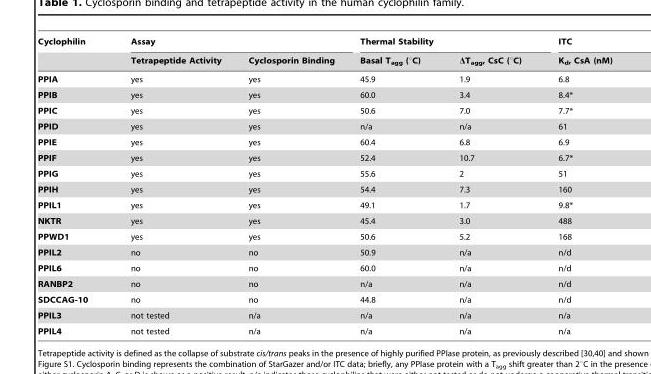table: (37, 36, 611, 335)
table column: (108, 36, 234, 335), (234, 36, 346, 335), (439, 36, 539, 335), (346, 36, 439, 335), (539, 36, 611, 335), (37, 36, 108, 335)
table column header: (37, 36, 611, 69)
table row: (37, 50, 611, 69), (37, 69, 611, 86), (37, 86, 611, 102), (37, 102, 611, 118), (37, 118, 611, 134), (37, 149, 611, 165), (37, 165, 611, 181), (37, 181, 611, 197), (37, 212, 611, 228), (37, 228, 611, 244), (37, 244, 611, 260), (37, 275, 611, 291), (37, 291, 611, 307), (37, 307, 611, 323), (37, 134, 611, 149), (37, 197, 611, 212), (37, 260, 611, 275), (37, 36, 611, 50), (37, 323, 611, 335)
table spanning cell: (108, 36, 346, 50), (346, 36, 539, 50), (539, 36, 611, 69), (37, 36, 108, 69)
